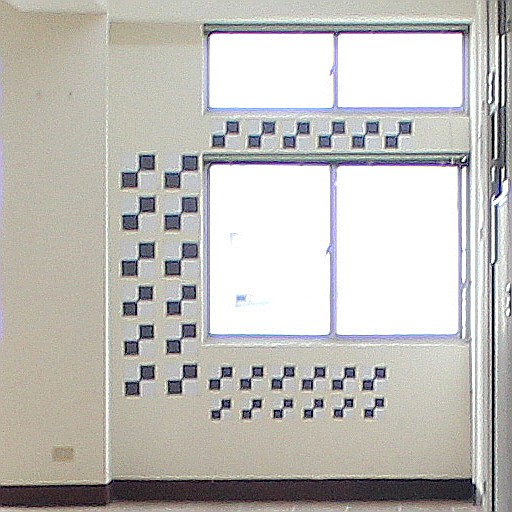方標: (163, 153, 200, 190), (164, 241, 201, 277), (164, 196, 200, 232), (121, 242, 155, 277), (121, 197, 155, 231), (122, 154, 155, 189), (167, 363, 199, 397), (121, 284, 154, 316), (166, 284, 199, 316), (165, 323, 197, 355), (124, 325, 155, 357), (125, 365, 157, 396), (246, 118, 277, 150), (282, 118, 311, 150), (352, 120, 380, 150), (210, 120, 239, 148), (318, 120, 346, 149), (384, 120, 411, 149), (208, 364, 235, 391), (362, 366, 389, 393), (270, 365, 296, 391), (300, 364, 327, 389), (333, 365, 357, 392), (241, 365, 265, 391), (302, 396, 325, 420), (272, 398, 295, 421), (209, 399, 232, 421), (364, 396, 386, 419), (333, 397, 355, 419), (242, 398, 262, 421)
